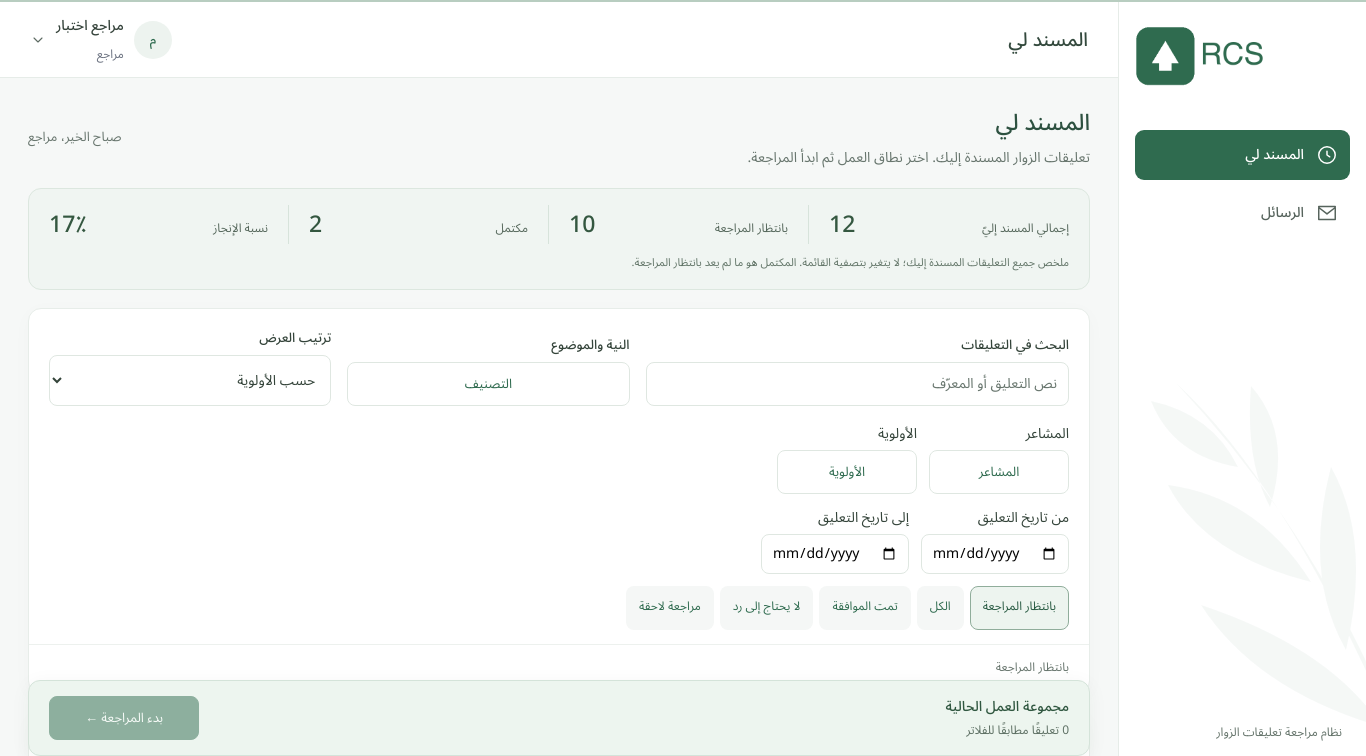
Test case: Reviewer Assigned work › labels terminal history as viewing, without reclaiming completed comments
Click the button "تمت الموافقة". click: (865,608)
box: [820, 586, 911, 630]
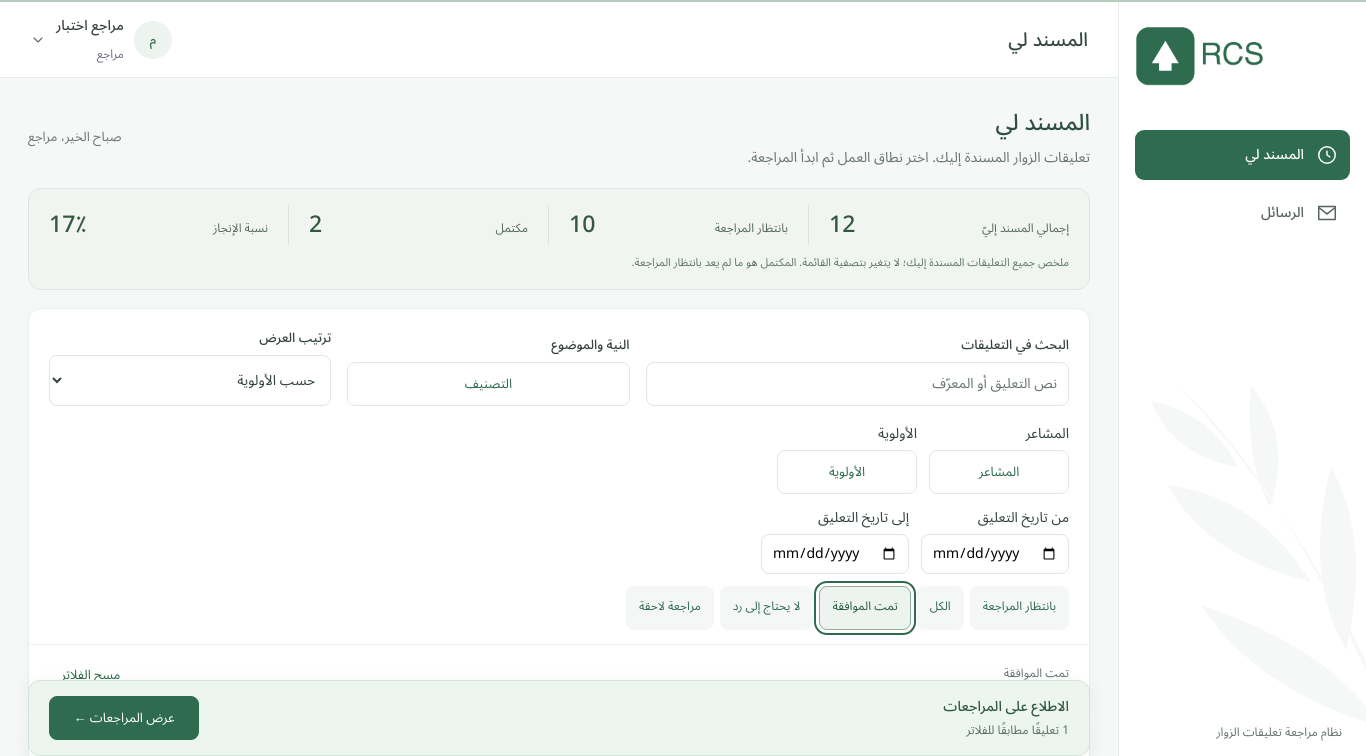
Check: the button "بدء المراجعة" is gone
Click the button "عرض المراجعات ←". click: (124,718)
box: [49, 696, 199, 740]
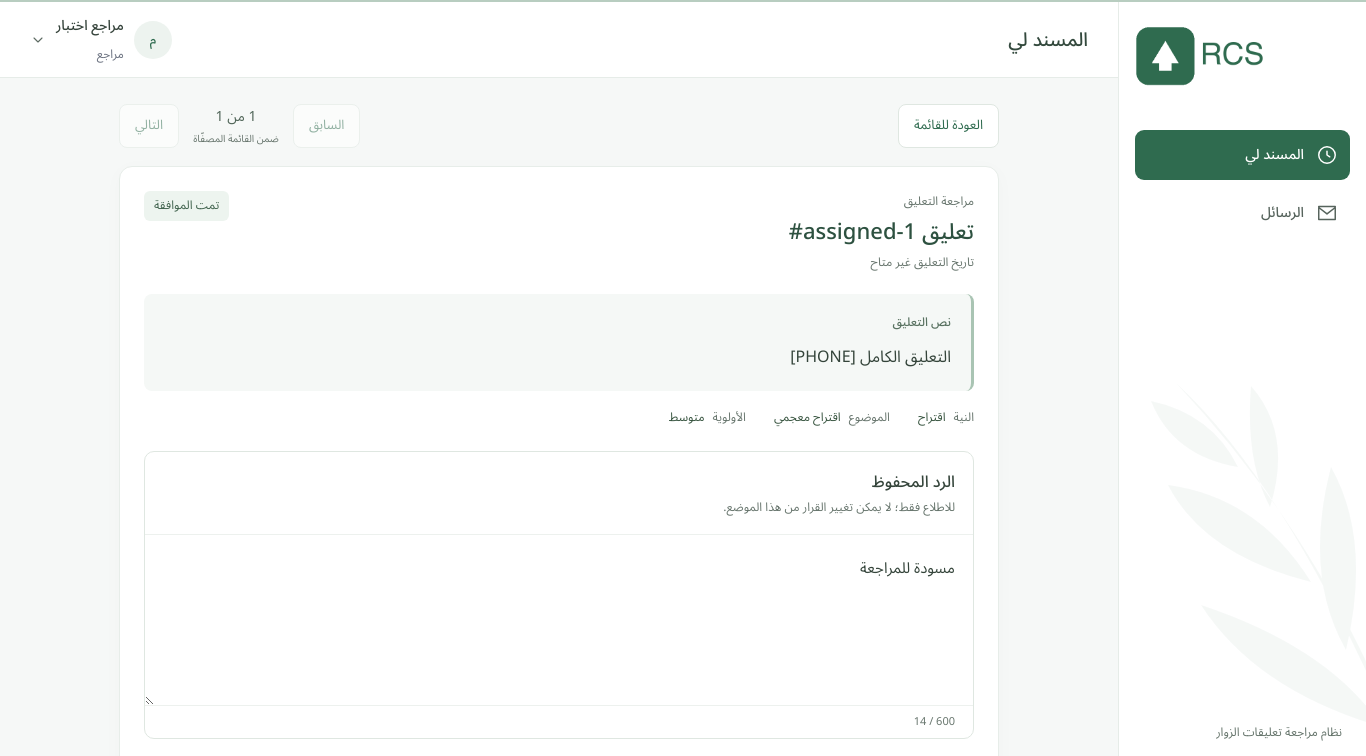
Check: the text box named "الرد المقترح" is shown, box [145, 535, 973, 705]
